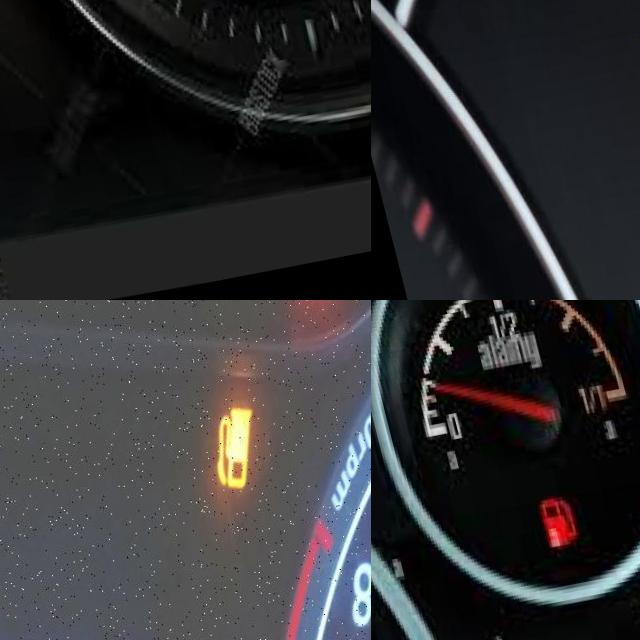Electronic Power Steering: (252, 300, 371, 347)
